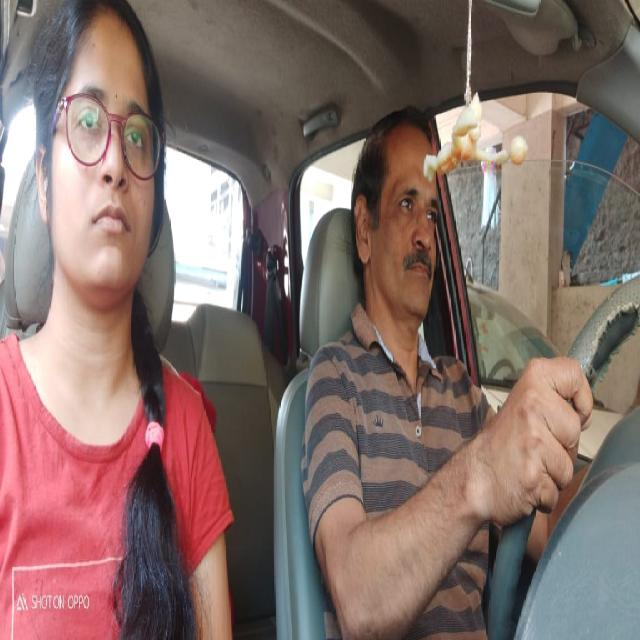person: (31, 0, 171, 312), (349, 103, 445, 342)
